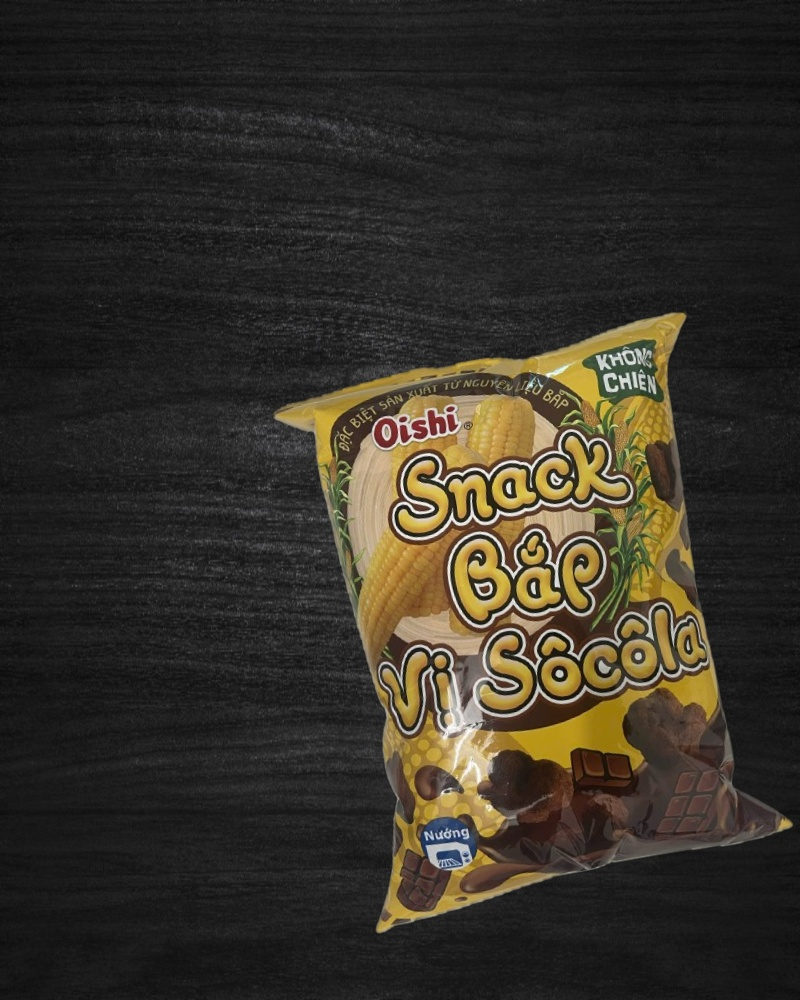Snack socola: (270, 311, 798, 924)
